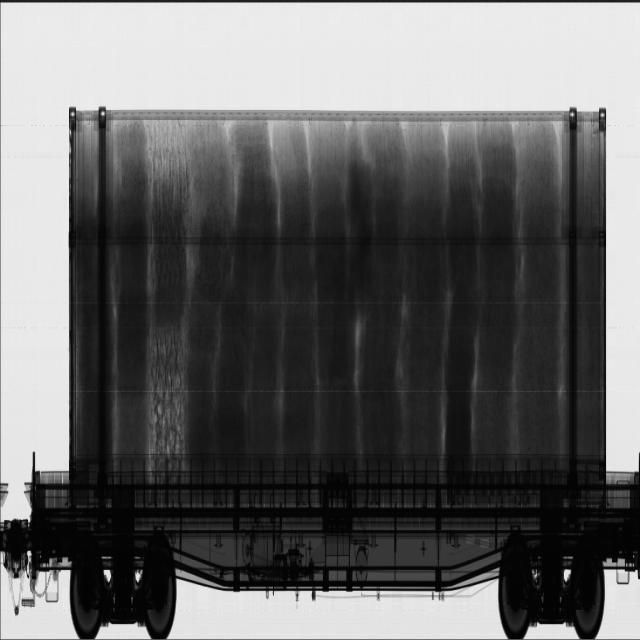textiles: (188, 125, 597, 460), (74, 123, 147, 455)
